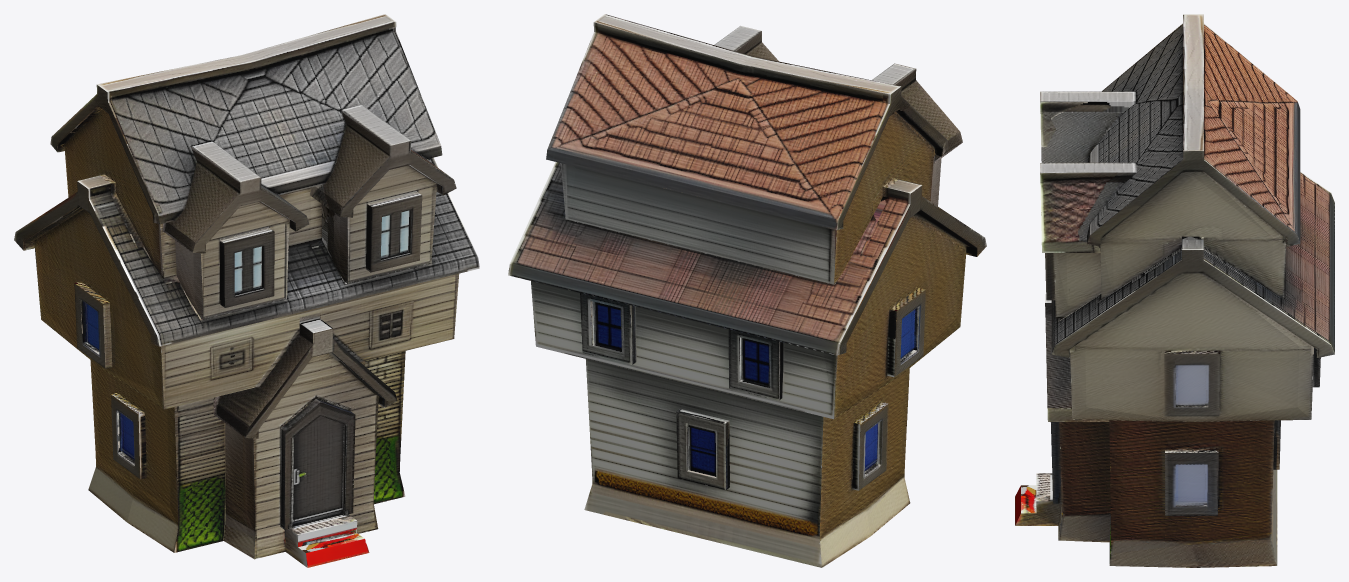
File: textured_ours.glb
3 renders of one model, left to right at view 1: azimuth 30°, elevation 25°; view 2: azimuth 150°, elevation 25°; view 3: azimuth 270°, elevation 25°, orthographic. The views are drawn at different scales.
Visible parts, largest first — view 1: Node; view 2: Node; view 3: Node.
Part boxes in pixels (x1,y1,x2,y2): Node: [14, 14, 479, 567]; Node: [508, 14, 986, 567]; Node: [1015, 14, 1334, 567].
Bounding box in the file's own units: 1.56 × 2 × 1.35.
1 material, 1 textured.
